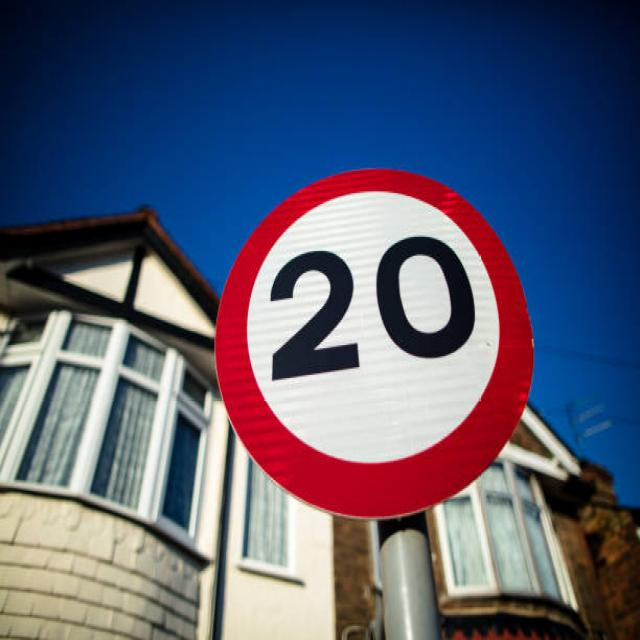speed_limit_20: (205, 154, 542, 527)
